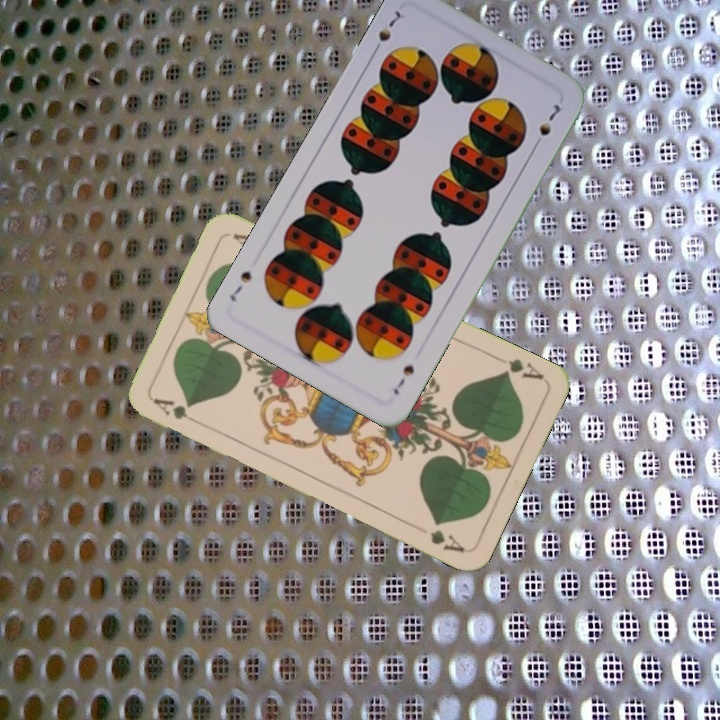GA: (149, 394, 205, 428), (498, 354, 547, 383)
S7: (368, 6, 404, 58), (389, 360, 417, 398)
